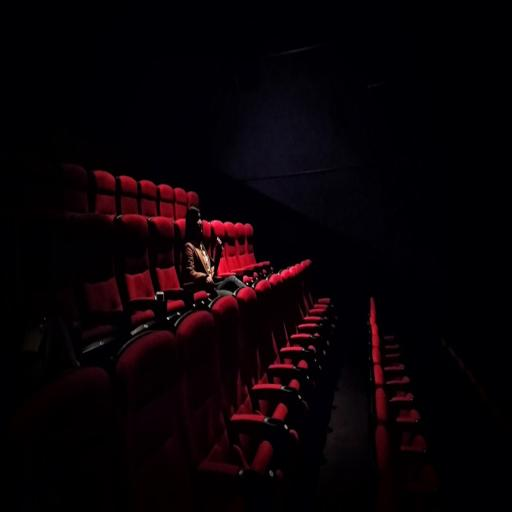face: (197, 214, 202, 234)
